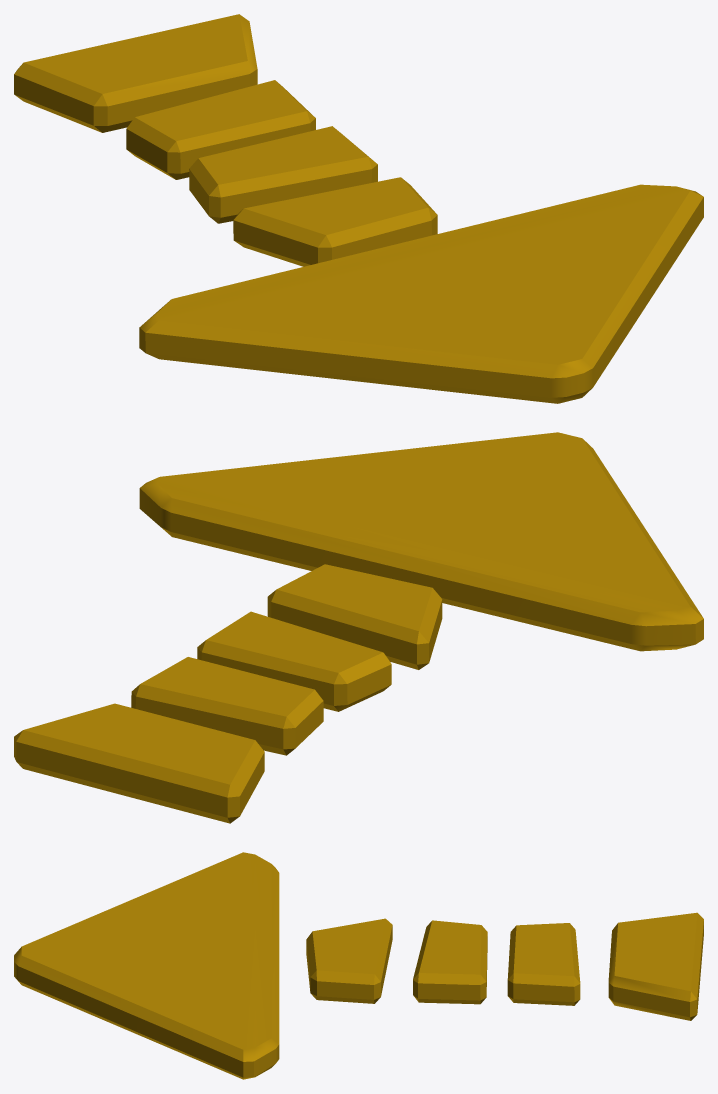
File: GateSign.fbx
The picture shows the model from 3 angles, top to bottom: view 1: azimuth 30°, elevation 25°; view 2: azimuth 150°, elevation 25°; view 3: azimuth 270°, elevation 25°; orthographic projection. The views are drawn at different scales.
Visible parts, largest first — view 1: pCube165, pCube166, pCube167, pCube163, pCube162; view 2: pCube165, pCube166, pCube167, pCube162, pCube163; view 3: pCube165, pCube166, pCube167, pCube162, pCube163.
Part boxes in pixels (<box>): pCube165: <box>139,184,703,403</box>; pCube166: <box>14,14,257,132</box>; pCube167: <box>233,177,437,266</box>; pCube163: <box>189,126,377,223</box>; pCube162: <box>126,80,315,179</box>; pCube165: <box>139,432,703,651</box>; pCube166: <box>14,703,264,823</box>; pCube167: <box>267,564,442,669</box>; pCube162: <box>131,657,323,755</box>; pCube163: <box>197,611,391,711</box>; pCube165: <box>14,852,279,1079</box>; pCube166: <box>608,912,703,1020</box>; pCube167: <box>306,918,392,1003</box>; pCube162: <box>507,923,580,1005</box>; pCube163: <box>413,920,487,1004</box>.
Size of the model in its own units: 6.48 by 0.4319 by 9.09.
